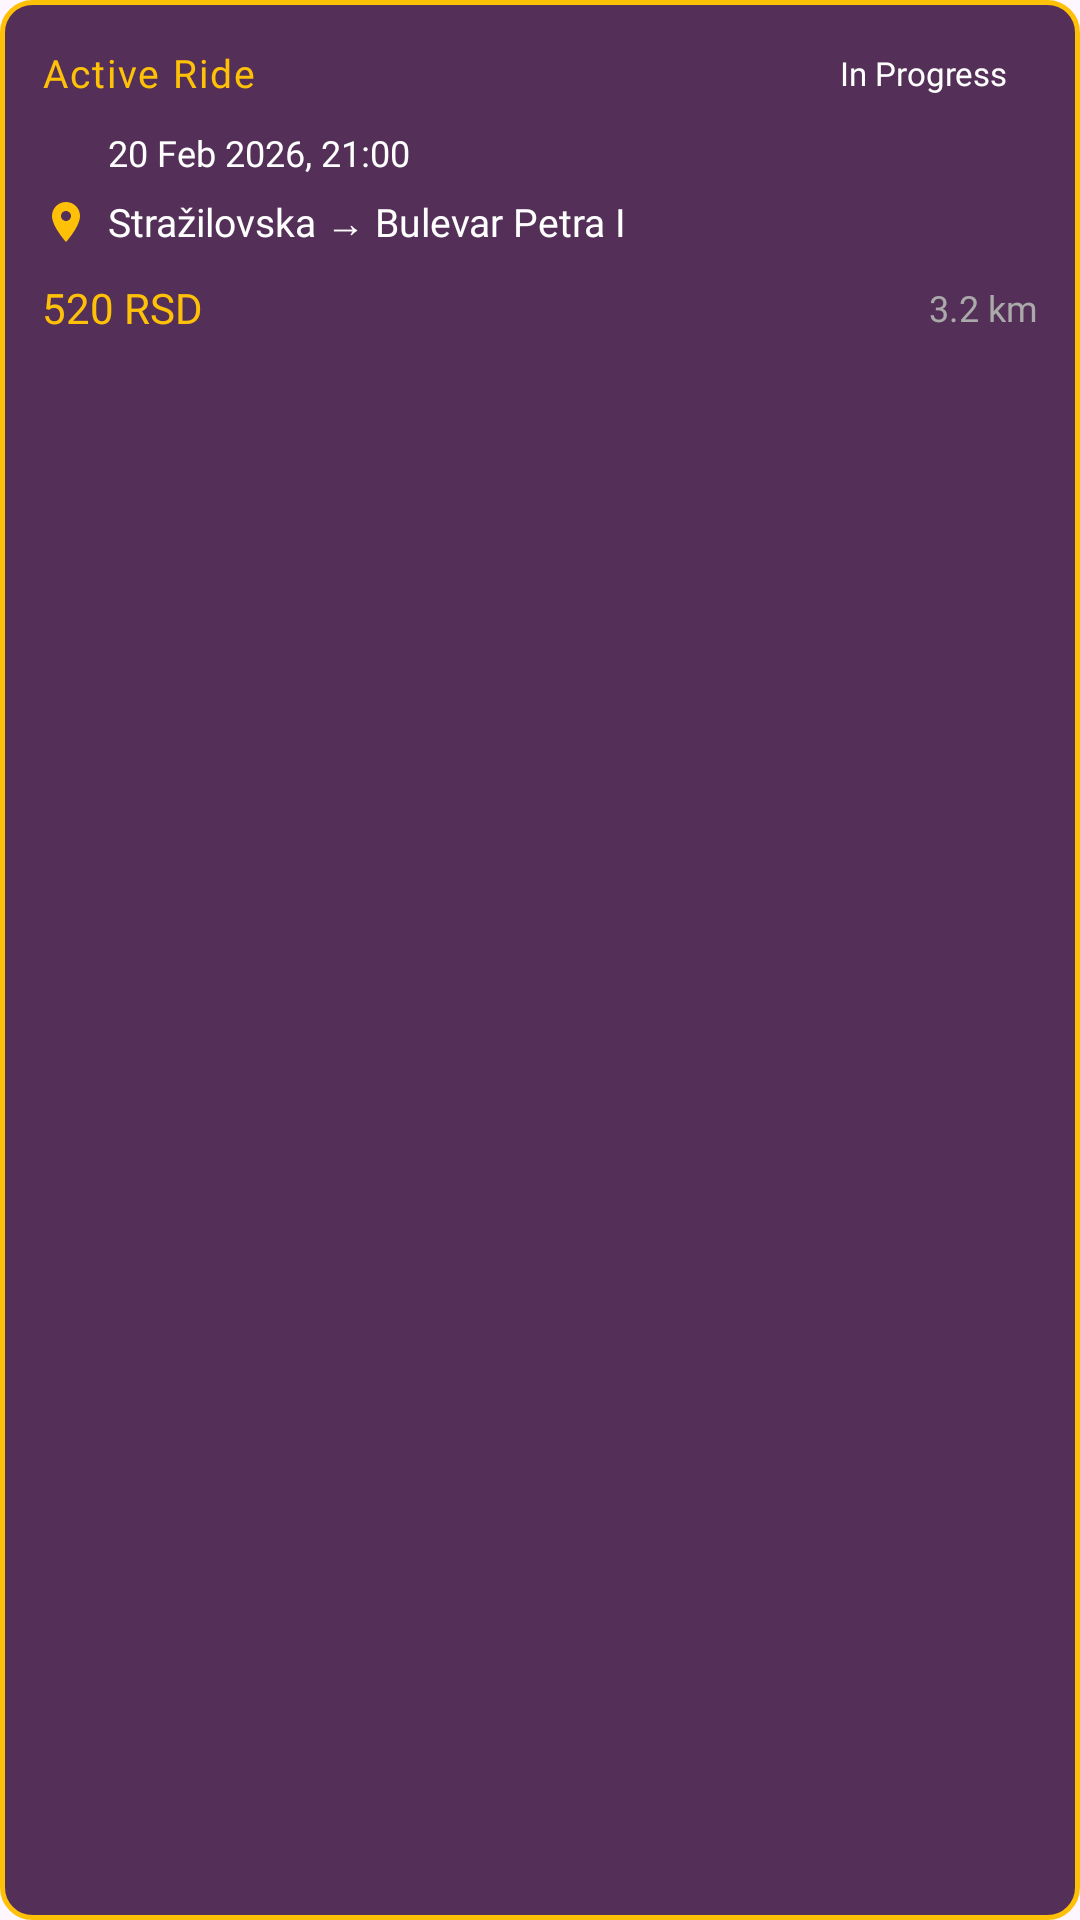

Where to tap for icons on this 1080px×1920px app screen, as (x,y):
Location: (66,222)
